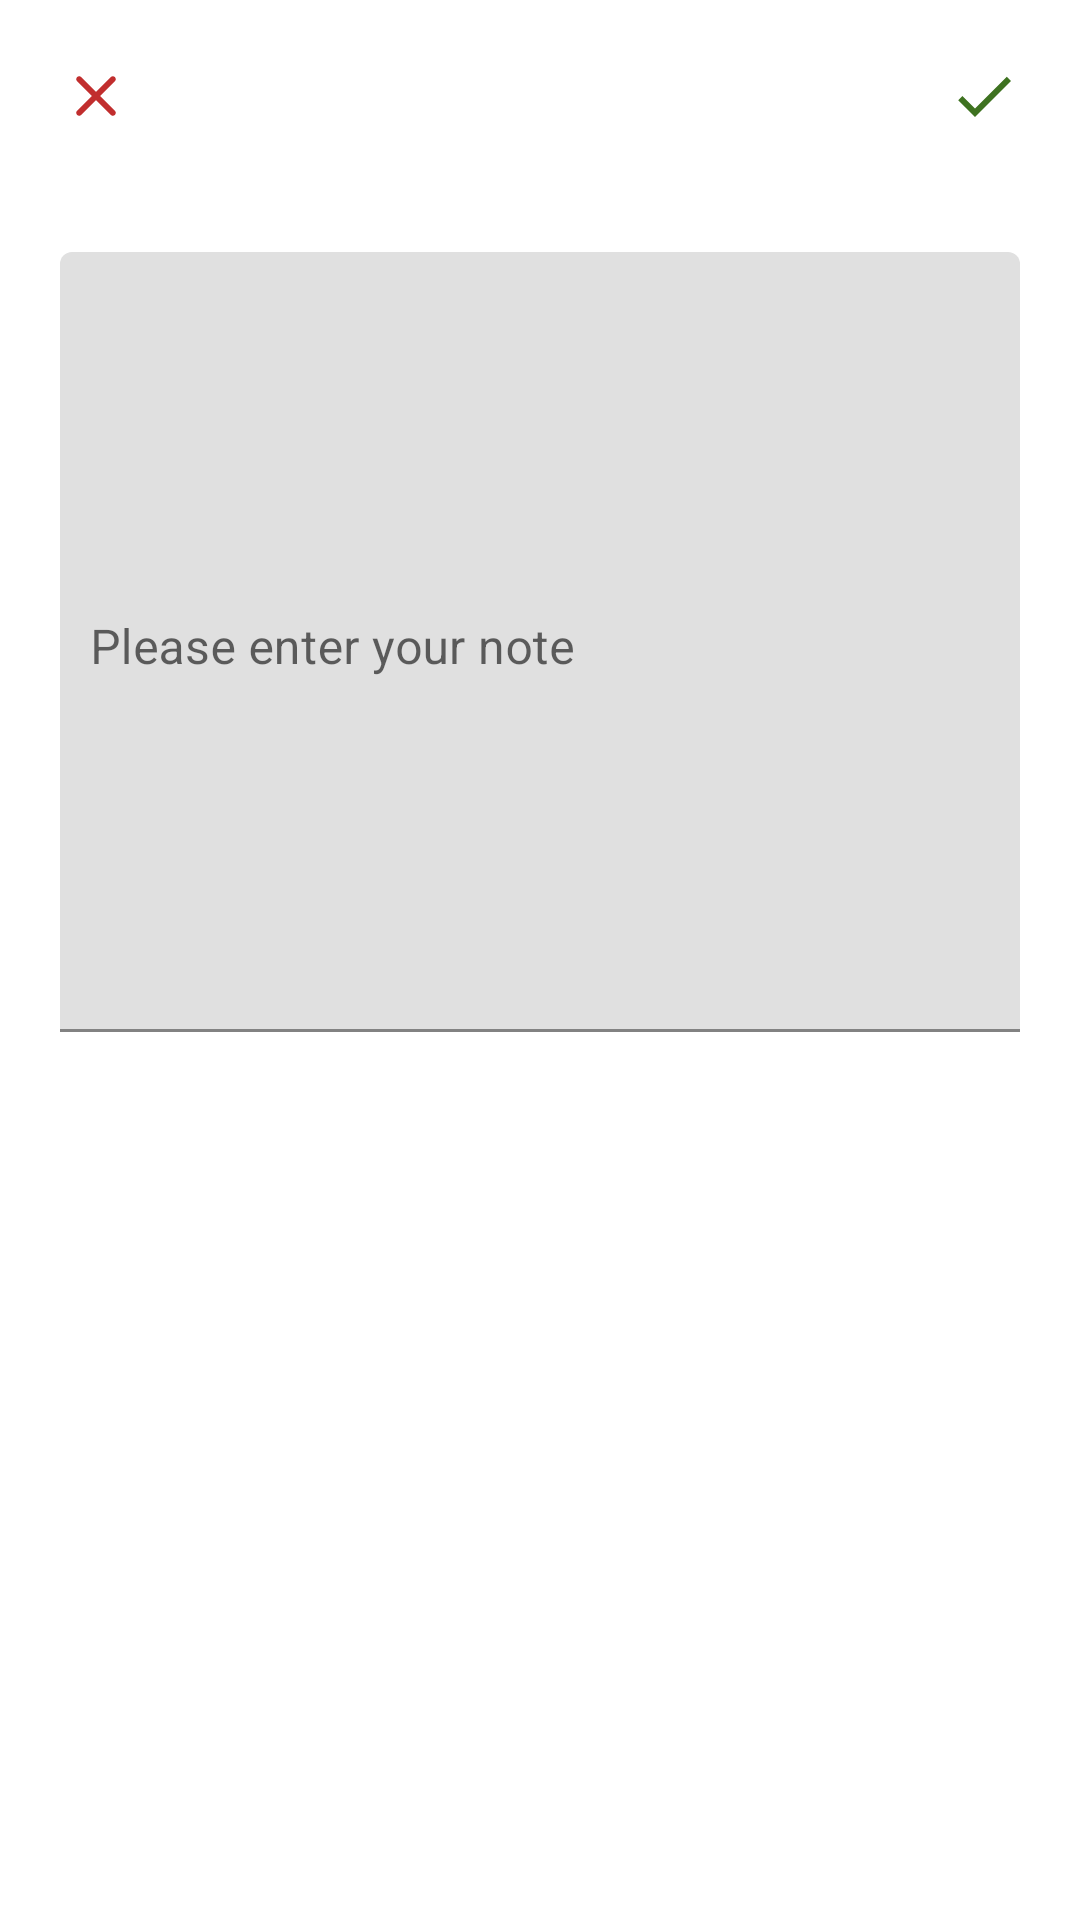

Icon click points for this 1080*1920 phone screenshot, format (x,y):
close: (96,96)
done: (984,97)
